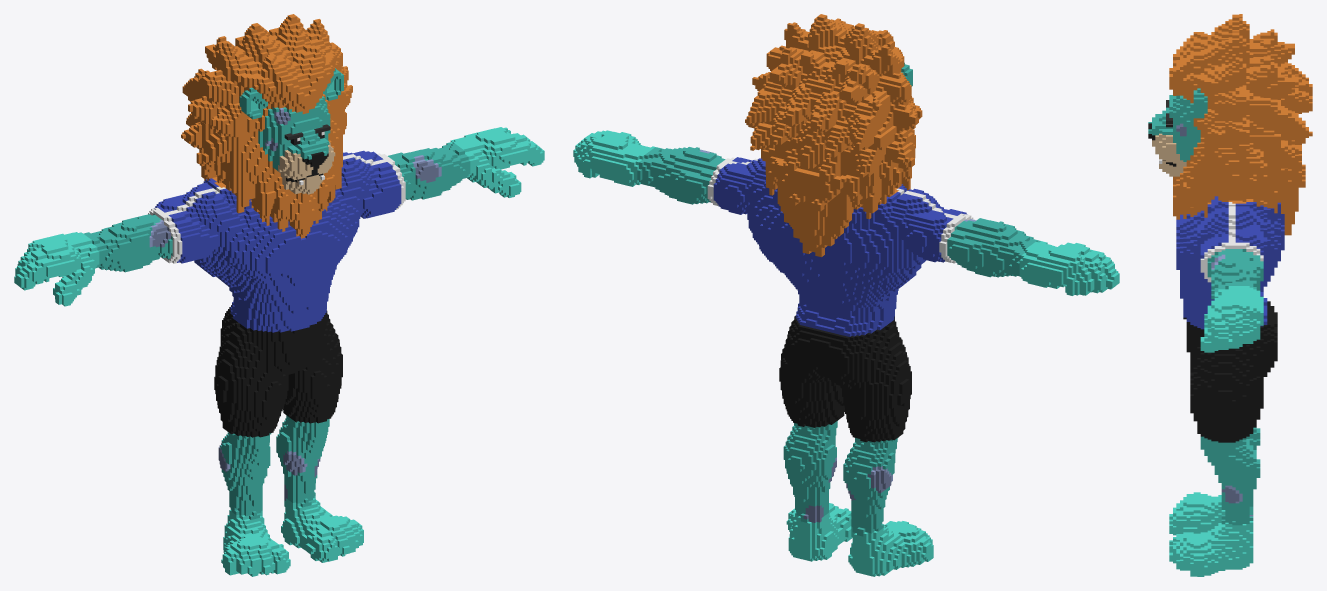
The model's file is 804-ClYYDXC6.glb.
3 renders of one model, left to right at view 1: azimuth 30°, elevation 25°; view 2: azimuth 150°, elevation 25°; view 3: azimuth 270°, elevation 25°, orthographic. The views are drawn at different scales.
Visible parts, largest first — view 1: standard.001; view 2: standard.001; view 3: standard.001.
Part boxes in pixels (x1,y1,x2,y2): standard.001: (14,14,544,576); standard.001: (573,14,1119,576); standard.001: (1148,14,1312,576).
Size of the model in its own units: 17.2 by 16.5 by 4.7.
5 materials, 5 textured.
